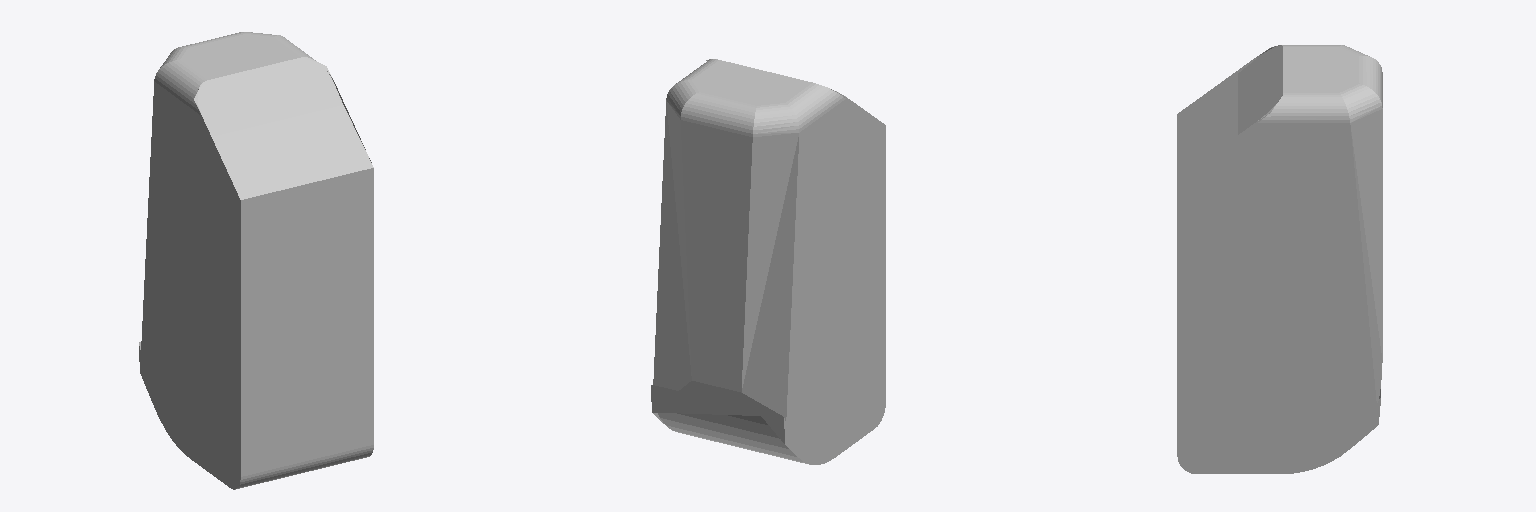
The model's file is e_body2.obj.
3 renders of one model, left to right at view 1: azimuth 30°, elevation 25°; view 2: azimuth 150°, elevation 25°; view 3: azimuth 270°, elevation 25°, orthographic.
Bounding box in the file's own units: 1.5 × 4 × 2.